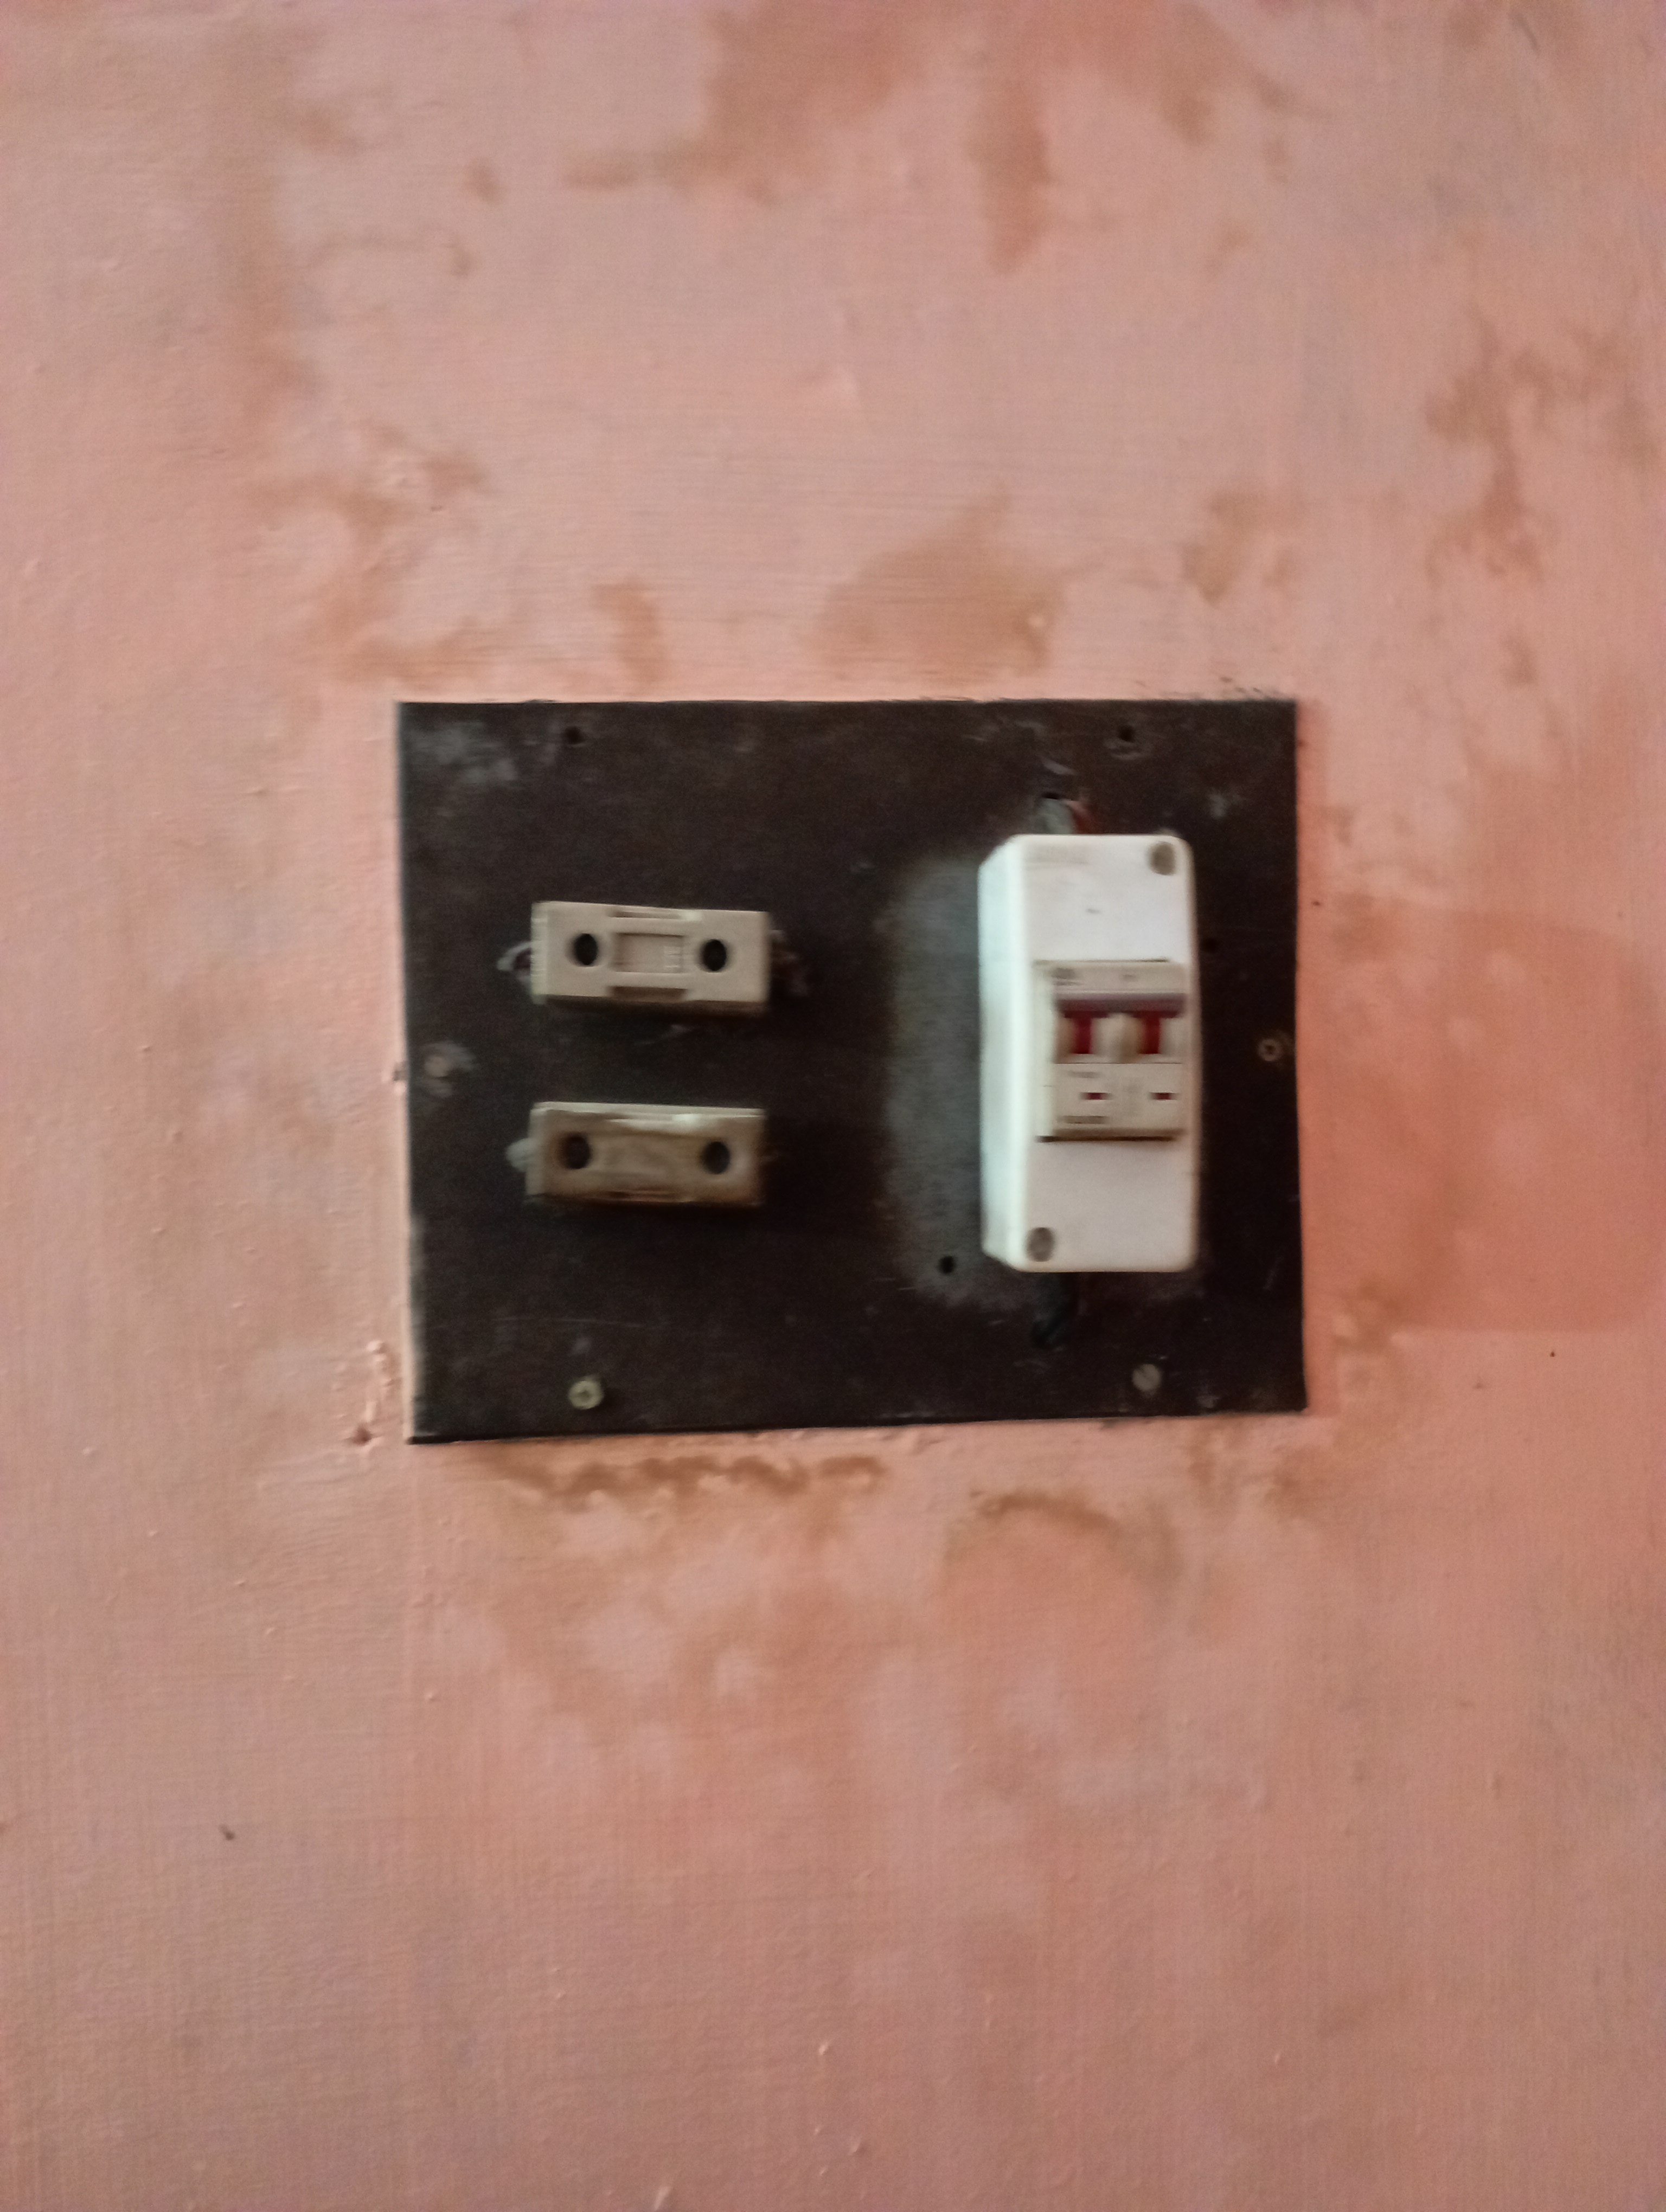ciruit_breaker: (947, 820, 1234, 1296)
fuse: (507, 876, 781, 1032), (507, 1075, 766, 1207)
